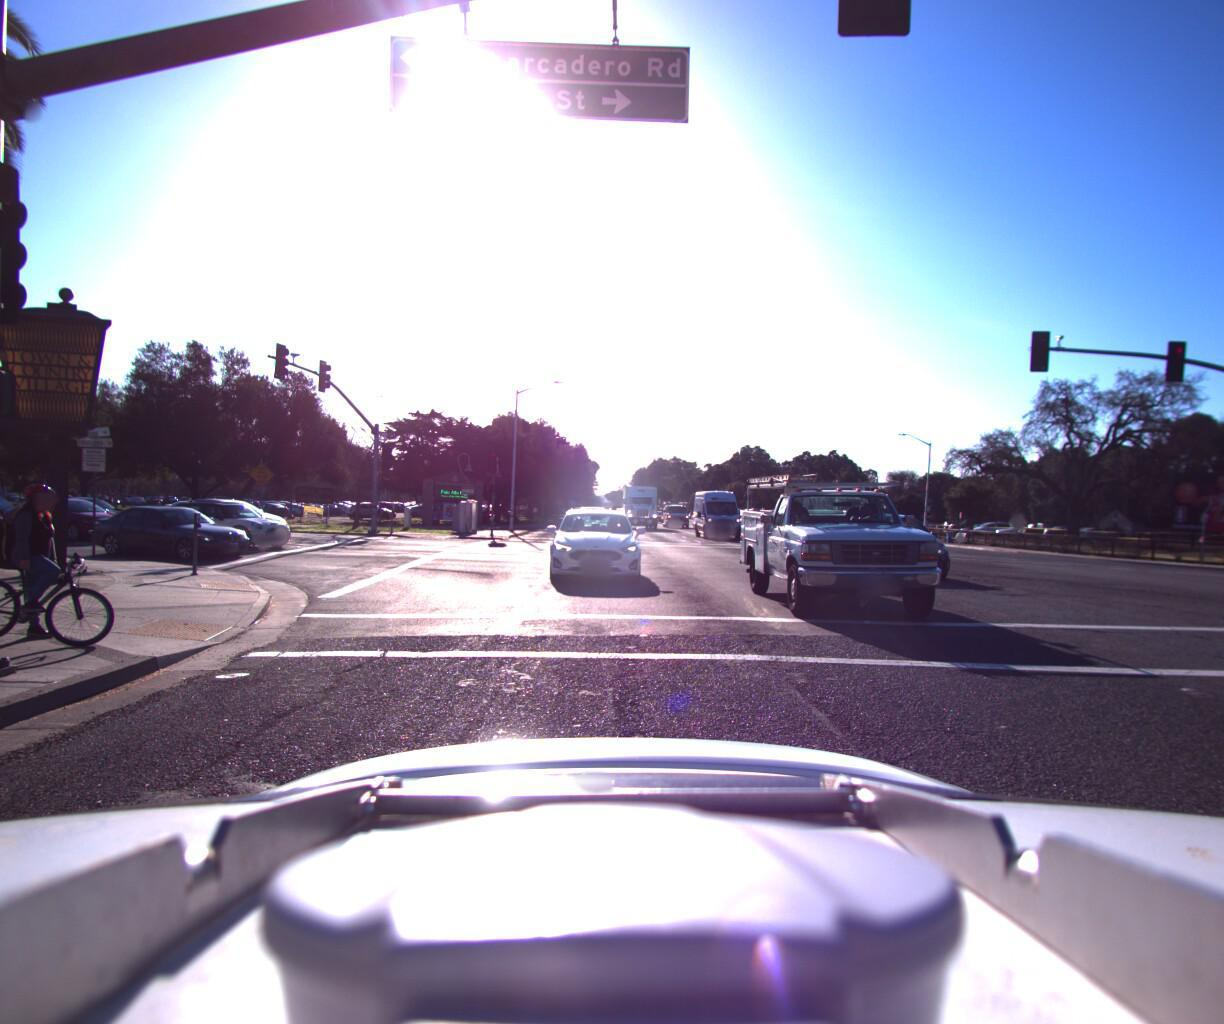bicycle: (0, 472, 131, 662)
car: (741, 463, 988, 644), (839, 508, 988, 587), (82, 497, 262, 558), (540, 499, 640, 585), (158, 497, 302, 549), (0, 492, 147, 541), (692, 485, 746, 538), (0, 482, 14, 534), (663, 497, 689, 525)
other_vehicle: (0, 472, 30, 528)
truck: (617, 480, 661, 527)
